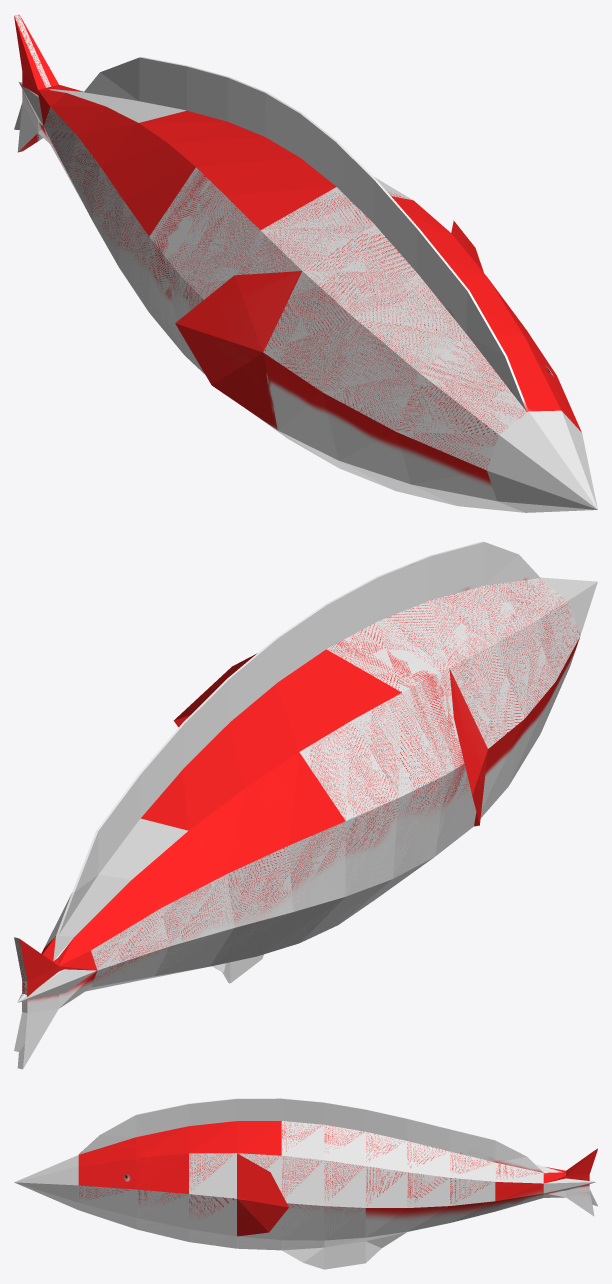
Rendered from fish-tris.glb.
3 views of the same model, one above another, from view 1: azimuth 30°, elevation 25°; view 2: azimuth 150°, elevation 25°; view 3: azimuth 270°, elevation 25° (orthographic). The views are drawn at different scales.
Parts seen in each view (by area): view 1: Fish, Body; view 2: Fish, Body, Tail; view 3: Fish, Body.
Part boxes in pixels (bbox=[...]): Fish: bbox=[14, 14, 581, 512]; Body: bbox=[19, 82, 597, 512]; Fish: bbox=[15, 541, 579, 1069]; Body: bbox=[17, 577, 597, 1002]; Tail: bbox=[14, 937, 27, 1051]; Fish: bbox=[78, 1098, 597, 1269]; Body: bbox=[14, 1121, 595, 1250].
Bounding box in the file's own units: 0.1427 × 0.1499 × 0.4797.
1 material, 1 textured.
